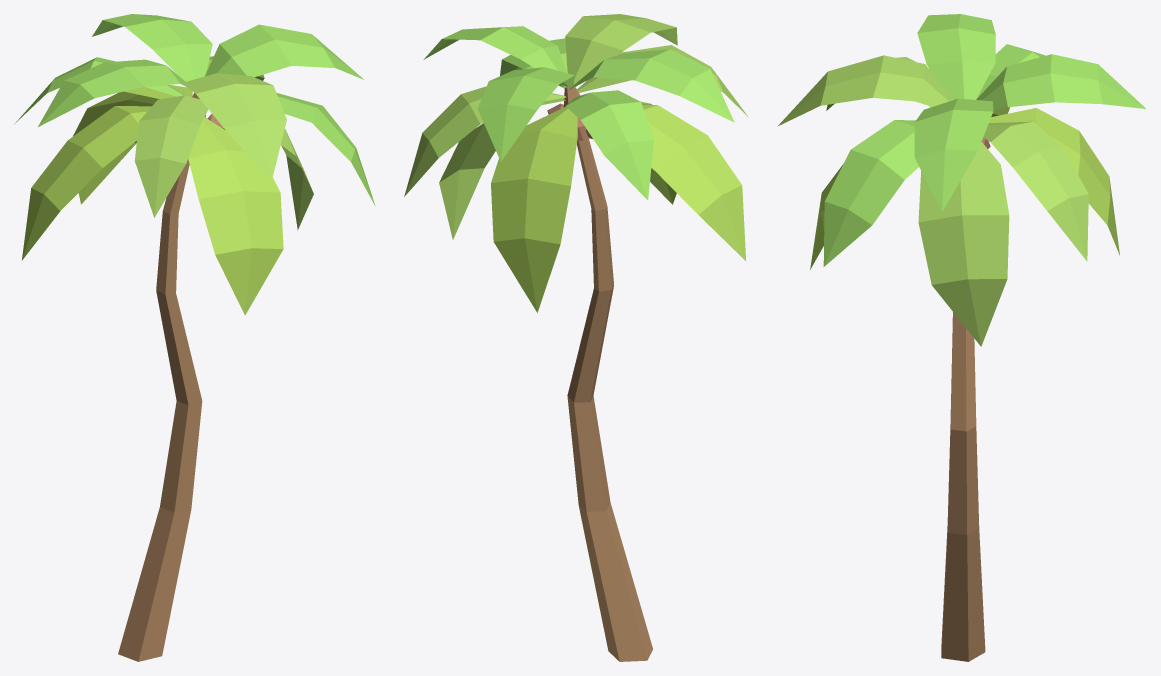
Rendered from Palm_Tree_Coconut_l_04_LOD.fbx.
The picture shows the model from 3 angles, left to right: view 1: azimuth 30°, elevation 25°; view 2: azimuth 150°, elevation 25°; view 3: azimuth 270°, elevation 25°; orthographic projection. The views are drawn at different scales.
Parts seen in each view (by area): view 1: Palm_Tree_Coconut_l_04_LOD0; view 2: Palm_Tree_Coconut_l_04_LOD0; view 3: Palm_Tree_Coconut_l_04_LOD0.
Boxes of the visible parts, x1=… form: Palm_Tree_Coconut_l_04_LOD0: x1=14, y1=14, x2=375, y2=661; Palm_Tree_Coconut_l_04_LOD0: x1=404, y1=14, x2=748, y2=661; Palm_Tree_Coconut_l_04_LOD0: x1=777, y1=14, x2=1145, y2=661.
Size of what is drawn, in the model's own units: 475 by 809 by 440.
